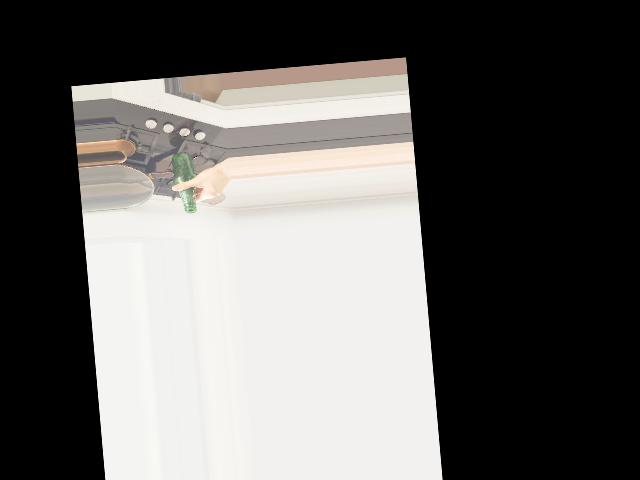beer: (171, 151, 197, 213)
